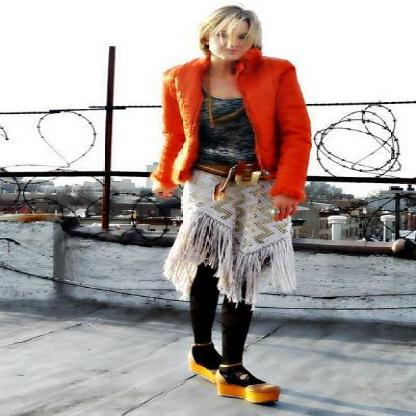jacket: (138, 44, 320, 200)
shirt: (196, 91, 256, 163)
shoe: (190, 361, 280, 407)
skirt: (162, 169, 311, 307)
